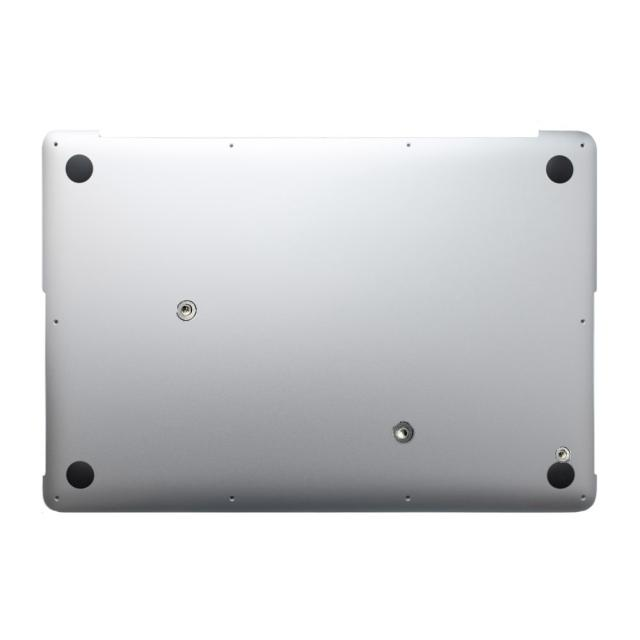missing_screw: (391, 420, 414, 444), (175, 300, 197, 321), (554, 446, 571, 463)
